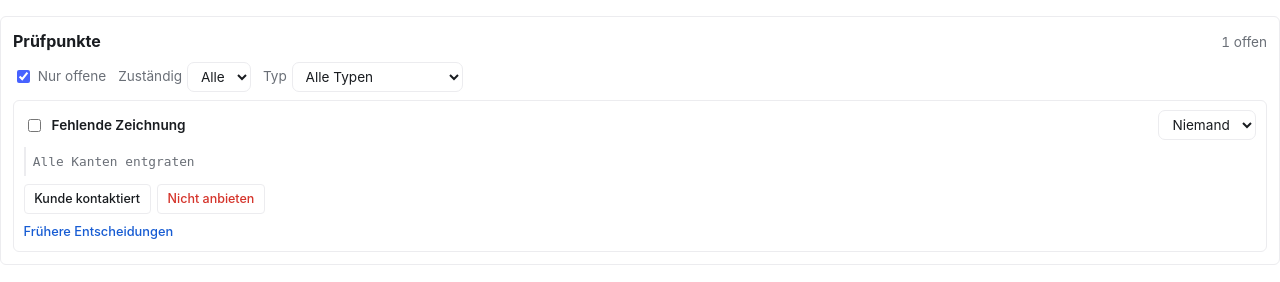
Test: ReviewItemsPanel › resolves via the clicked option and reflects the resolution
Click the button "Kunde kontaktiert" at (87, 199), box [24,184,151,214]
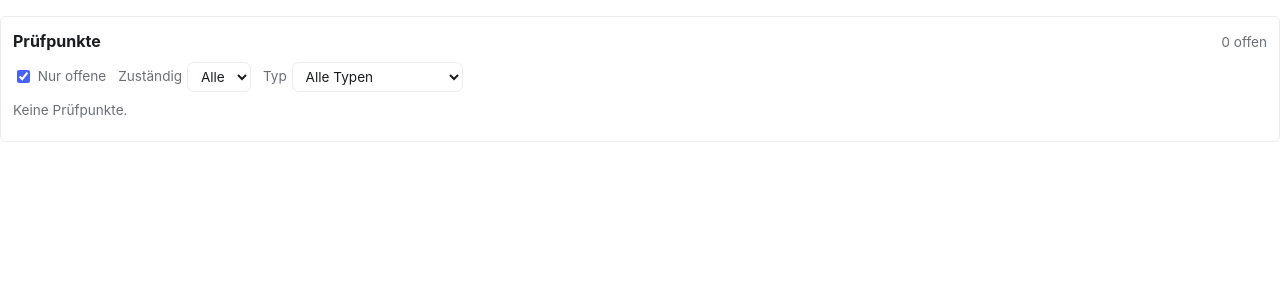
expect the list item with test id "review-card" is gone: met
